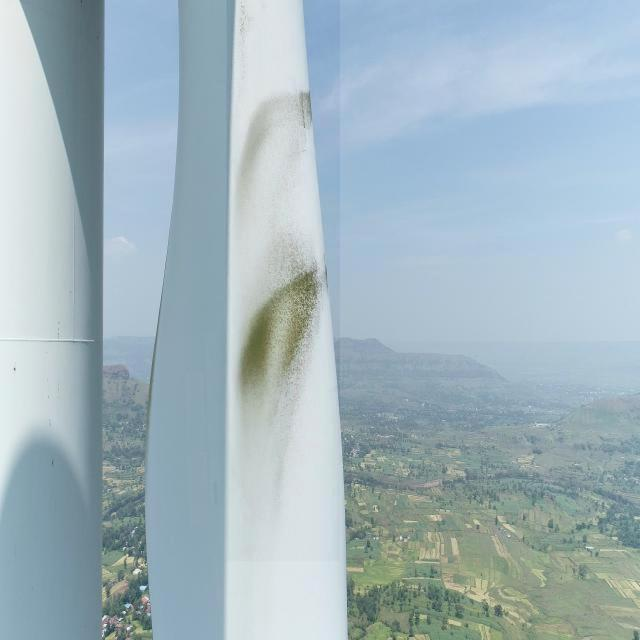Dirt: (225, 85, 332, 404)
